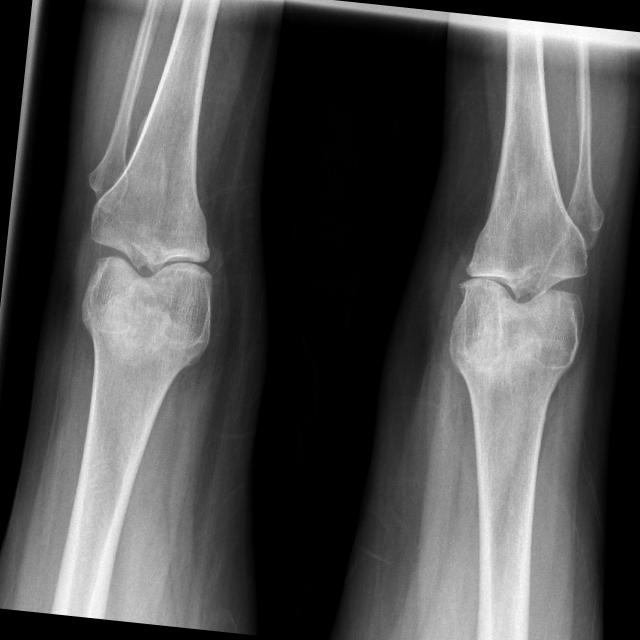Knee: (74, 198, 223, 339), (444, 219, 592, 360)
